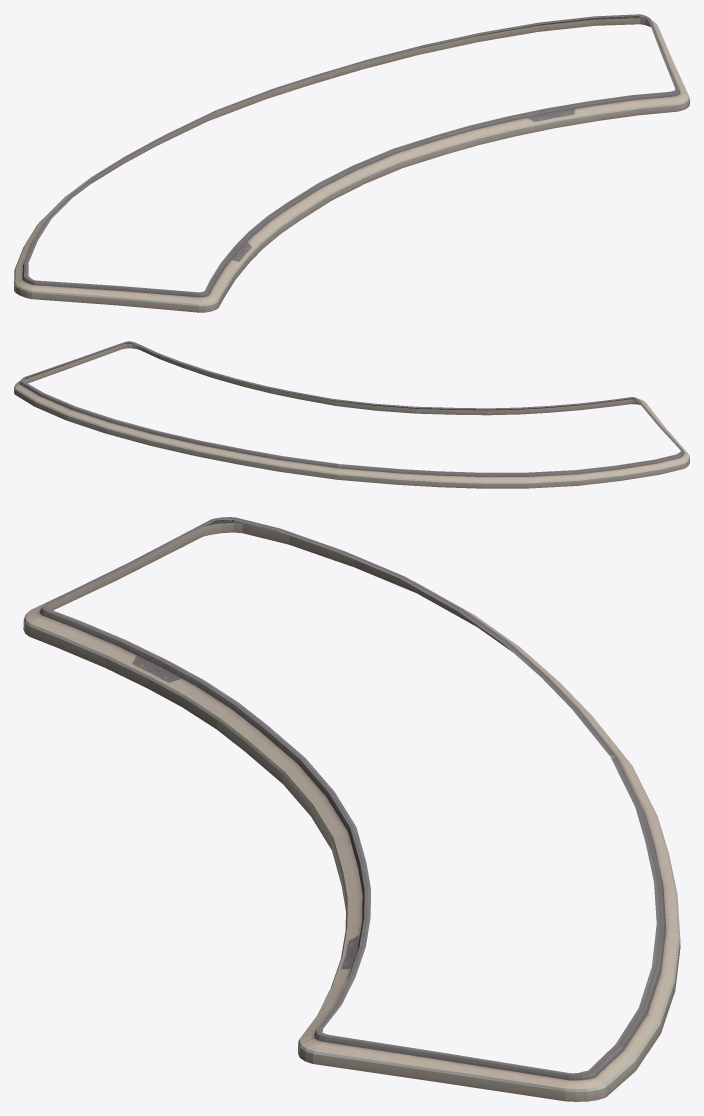
File: pref_sm_beach_winter_techborn08_02a_lv3.fbx
3 renders of one model, top to bottom at view 1: azimuth 30°, elevation 25°; view 2: azimuth 150°, elevation 25°; view 3: azimuth 270°, elevation 25°, orthographic. The views are drawn at different scales.
Parts seen in each view (by area): view 1: pref_sm_beach_winter_techborn08_02a_lv3; view 2: pref_sm_beach_winter_techborn08_02a_lv3; view 3: pref_sm_beach_winter_techborn08_02a_lv3.
Boxes of the visible parts, x1,y1,x2,y2 form: pref_sm_beach_winter_techborn08_02a_lv3: (14,14,689,312); pref_sm_beach_winter_techborn08_02a_lv3: (14,341,689,488); pref_sm_beach_winter_techborn08_02a_lv3: (23,517,680,1101).
Size of the model in its own units: 10.86 by 0.194 by 5.3.
